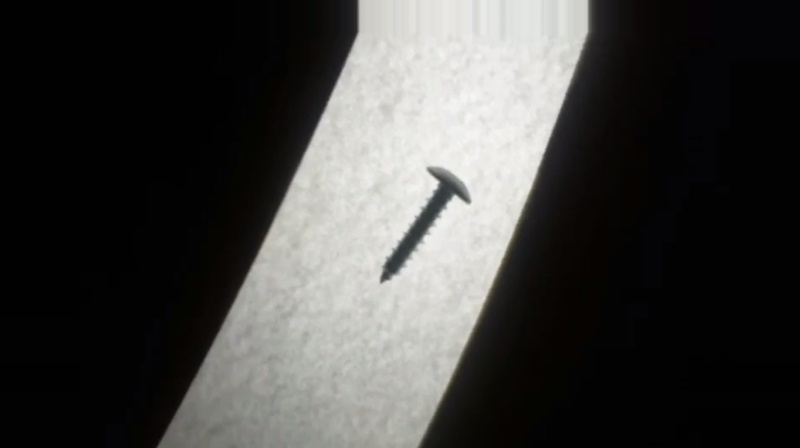S003: (374, 161, 475, 288)
